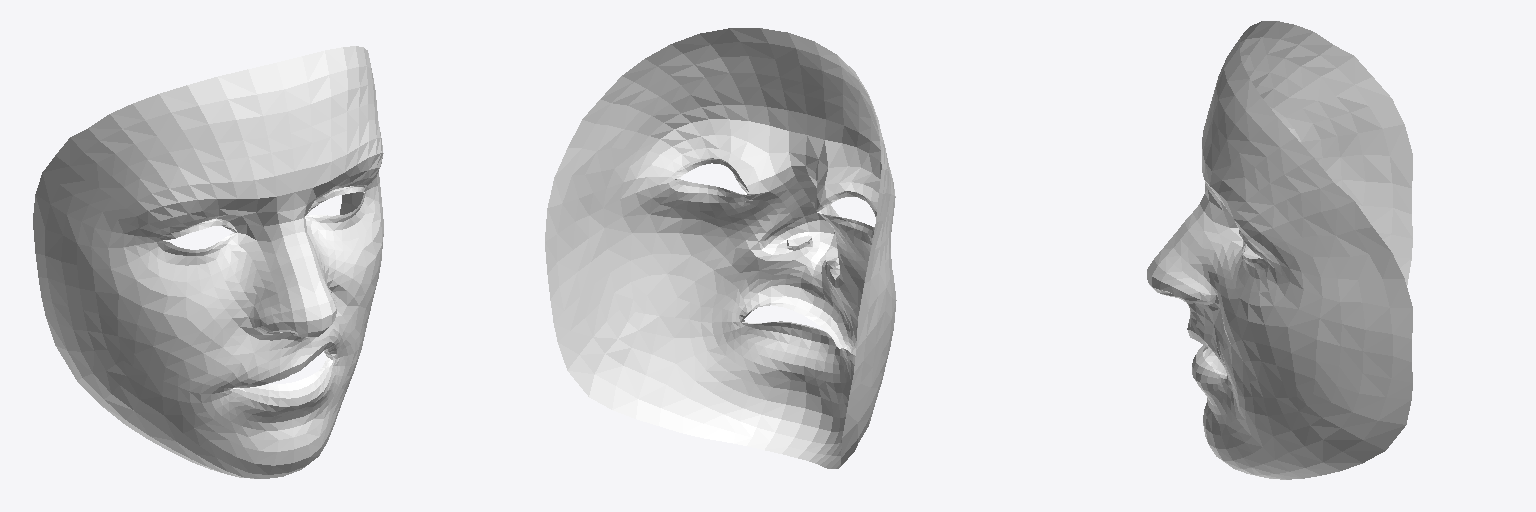
File: mouthUpperUp_L.obj
3 views of the same model, side by side, from view 1: azimuth 30°, elevation 25°; view 2: azimuth 150°, elevation 25°; view 3: azimuth 270°, elevation 25° (orthographic).
Visible parts, largest first — view 1: default; view 2: default; view 3: default.
Part boxes in pixels (x1,y1,x2,y2): default: (33, 46, 383, 478); default: (545, 28, 896, 468); default: (1147, 21, 1412, 479).
Size of the model in its own units: 0.1447 by 0.182 by 0.1055.